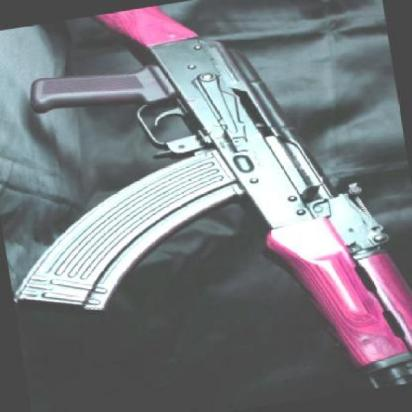Gun: (11, 14, 412, 395)
